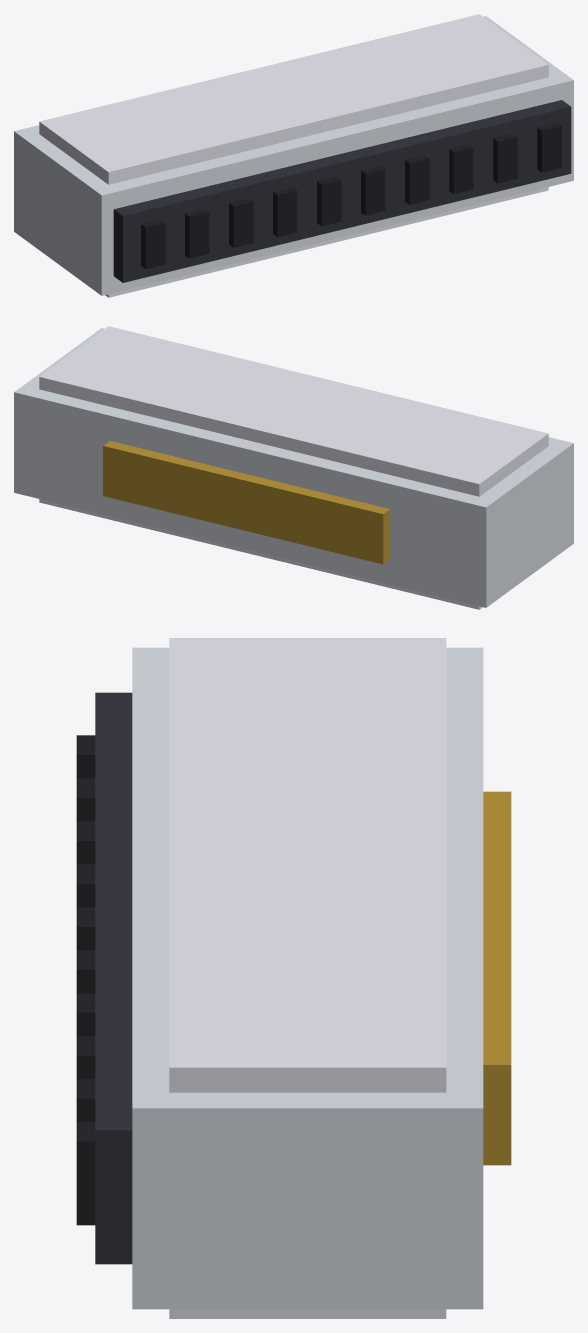
File: harmonica.glb
The picture shows the model from 3 angles, top to bottom: view 1: azimuth 30°, elevation 25°; view 2: azimuth 150°, elevation 25°; view 3: azimuth 270°, elevation 25°; orthographic projection. The views are drawn at different scales.
Visible parts, largest first — view 1: harmonica; view 2: harmonica; view 3: harmonica.
Part boxes in pixels (x1,y1,x2,y2): harmonica: (14,14,573,297); harmonica: (14,326,573,609); harmonica: (76,638,511,1318).
Size of the model in its own units: 0.118 by 0.03 by 0.047.
